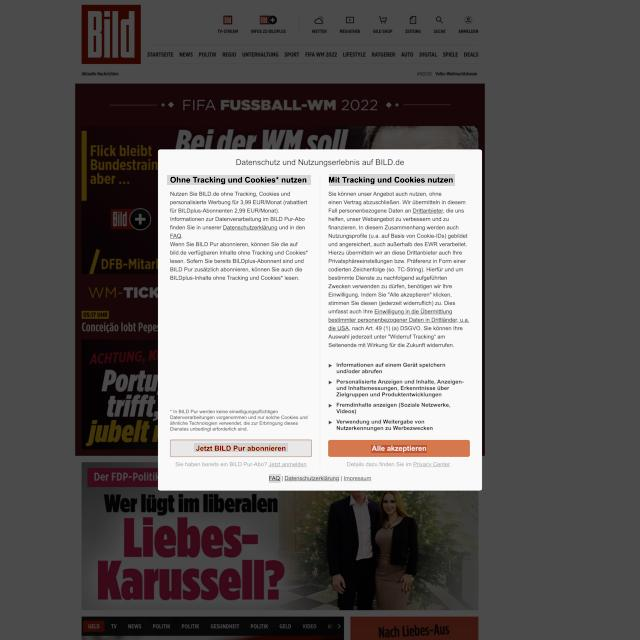CheckBox: (329, 439, 471, 459), (170, 439, 312, 457), (284, 475, 340, 482), (343, 474, 373, 483), (269, 474, 281, 483)
breadcrumbs: (329, 174, 455, 186), (167, 175, 311, 185)
data feed: (194, 443, 288, 452), (371, 445, 427, 453)
header: (158, 150, 482, 490)
